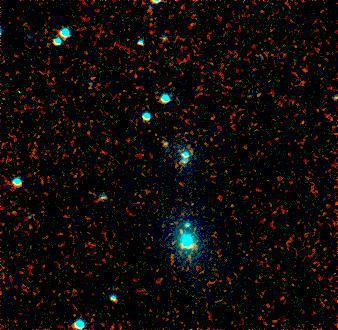star: (151, 129, 181, 159)
